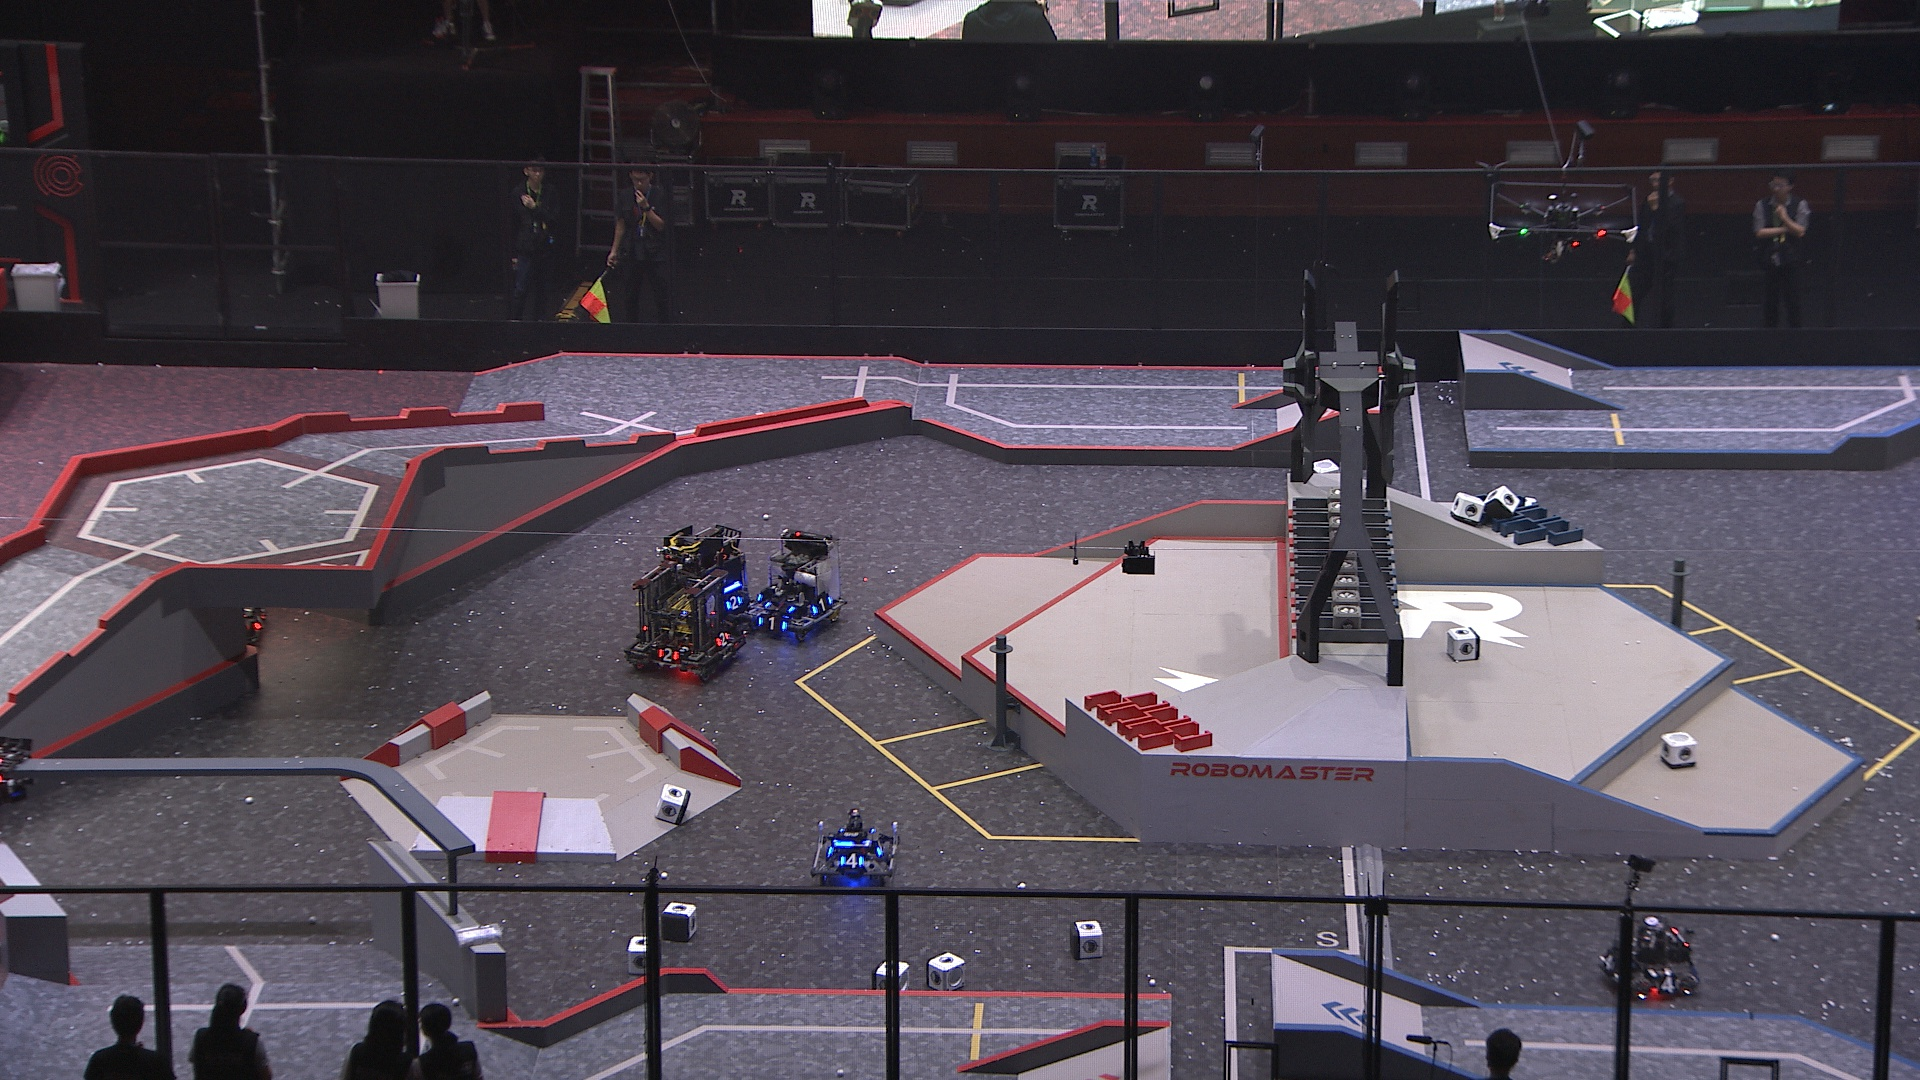armor: (756, 613, 789, 636), (1654, 975, 1684, 997), (808, 593, 833, 618), (837, 851, 866, 870), (657, 646, 679, 665), (724, 593, 745, 612), (1600, 949, 1617, 972), (874, 831, 887, 858), (249, 611, 266, 632), (712, 629, 731, 647)
car: (626, 556, 756, 683), (647, 524, 760, 647), (745, 524, 844, 641), (171, 535, 276, 644), (1596, 913, 1700, 1001), (808, 803, 905, 885)
